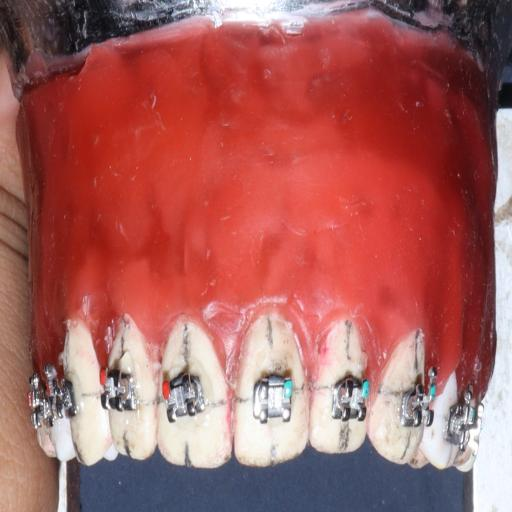incorrect_brace: (247, 364, 299, 428), (161, 365, 213, 424)
